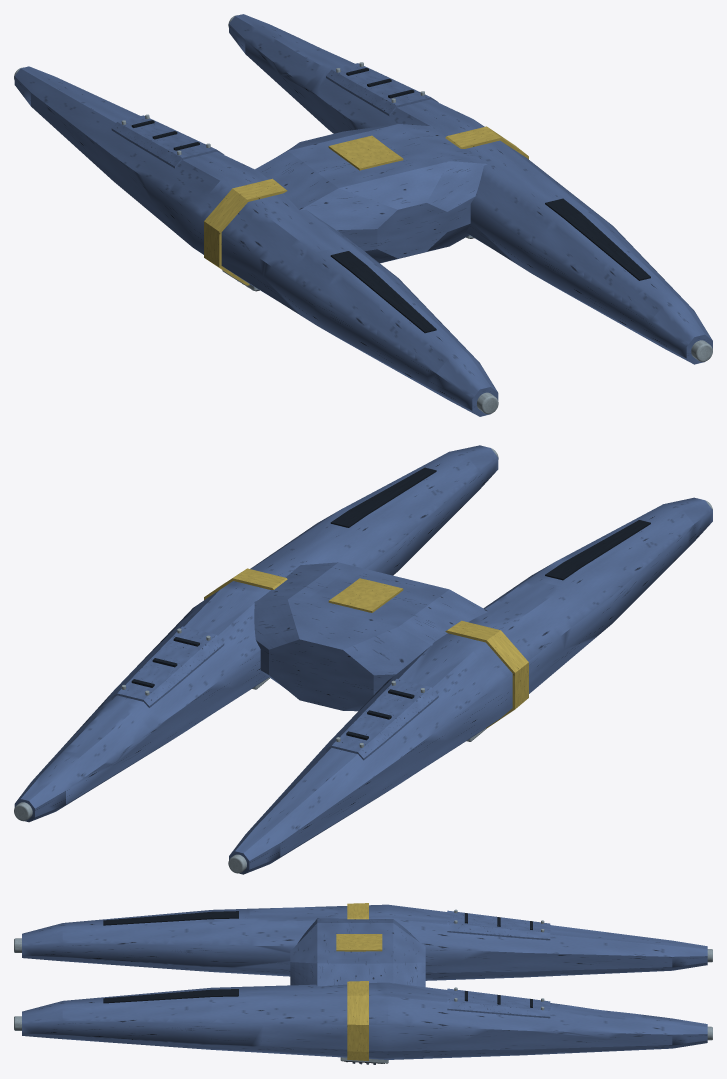
3 views of the same model, one above another, from view 1: azimuth 30°, elevation 25°; view 2: azimuth 150°, elevation 25°; view 3: azimuth 270°, elevation 25° (orthographic). The views are drawn at different scales.
Visible parts, largest first — view 1: ServiceAssemblies, PrimaryHullAndArmour, TrimAndFasteners, RecessedMachinery; view 2: ServiceAssemblies, PrimaryHullAndArmour, TrimAndFasteners, RecessedMachinery; view 3: ServiceAssemblies, PrimaryHullAndArmour, TrimAndFasteners.
Part boxes in pixels (x1,y1,x2,y2): ServiceAssemblies: [14, 14, 712, 416]; PrimaryHullAndArmour: [14, 15, 712, 414]; TrimAndFasteners: [121, 62, 528, 285]; RecessedMachinery: [131, 68, 474, 291]; ServiceAssemblies: [14, 445, 712, 874]; PrimaryHullAndArmour: [14, 448, 712, 873]; TrimAndFasteners: [121, 568, 528, 747]; RecessedMachinery: [131, 637, 414, 740]; ServiceAssemblies: [22, 904, 707, 1063]; PrimaryHullAndArmour: [14, 918, 712, 1064]; TrimAndFasteners: [346, 903, 544, 1063].
Bounding box in the file's own units: 0.9864 × 0.3281 × 2.58.
Materials: 1 (1 with a texture image).
